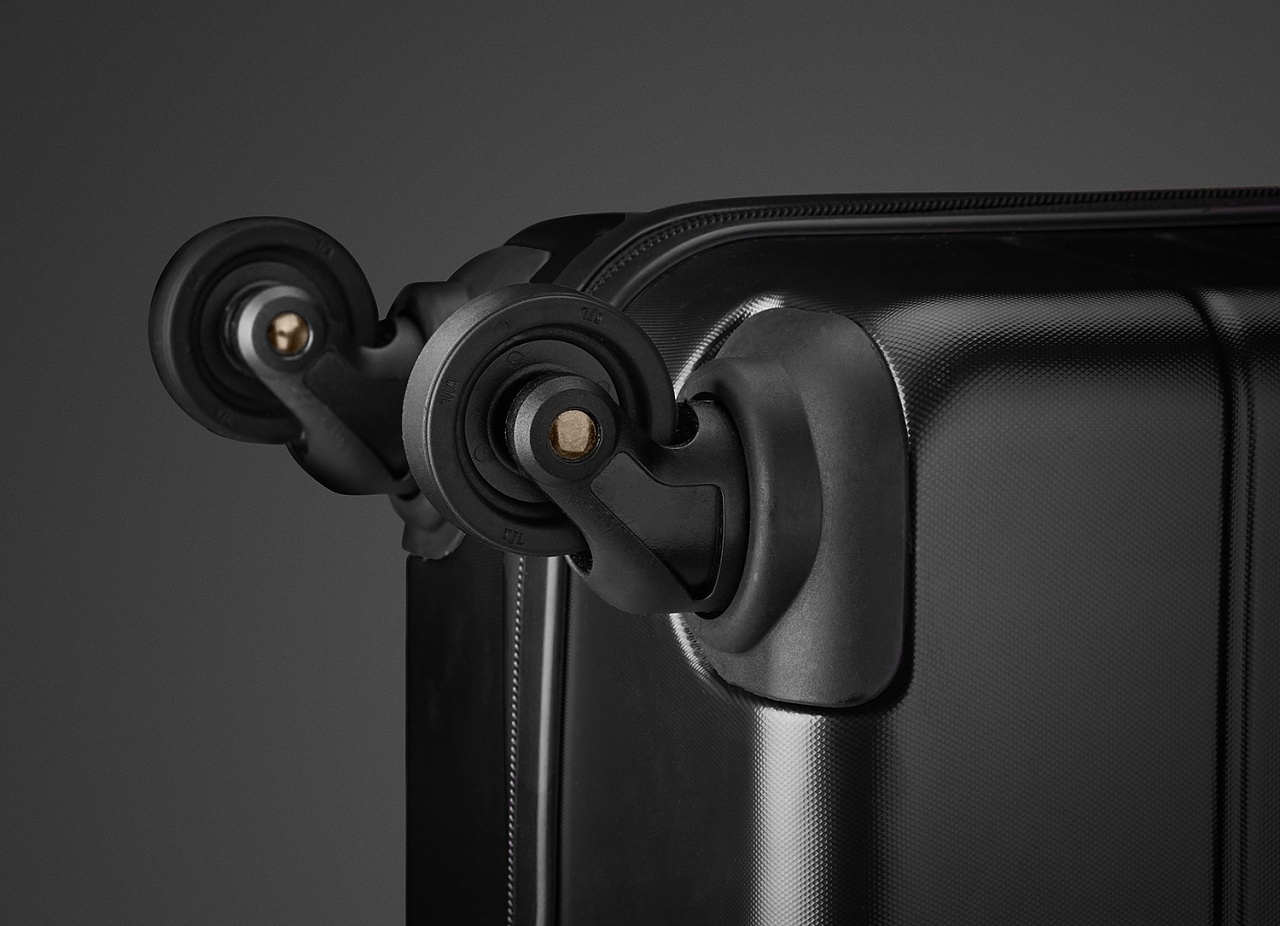box: (406, 187, 1280, 926)
wheel: (400, 283, 678, 558), (147, 215, 379, 445)
